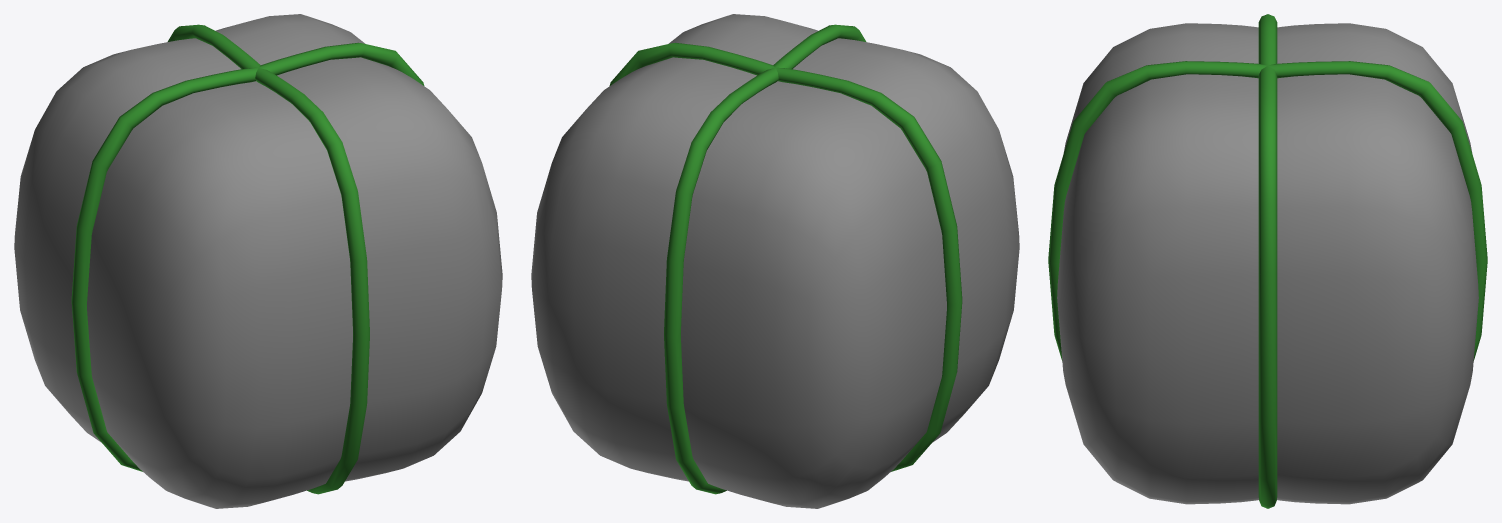
The model's file is package_2.FBX.
3 views of the same model, side by side, from view 1: azimuth 30°, elevation 25°; view 2: azimuth 150°, elevation 25°; view 3: azimuth 270°, elevation 25° (orthographic). The views are drawn at different scales.
Visible parts, largest first — view 1: Package, Cord1, Cord; view 2: Package, Cord1, Cord; view 3: Package, Cord, Cord1.
Part boxes in pixels (box(x1,y1,x2,y2)): Package: box(14, 14, 502, 508); Cord1: box(71, 42, 424, 471); Cord: box(167, 24, 369, 494); Package: box(531, 14, 1019, 508); Cord1: box(609, 42, 962, 471); Cord: box(664, 24, 866, 494); Package: box(1057, 23, 1478, 504); Cord: box(1048, 61, 1487, 360); Cord1: box(1258, 14, 1277, 508).
Bounding box in the file's own units: 101 × 102 × 101.
